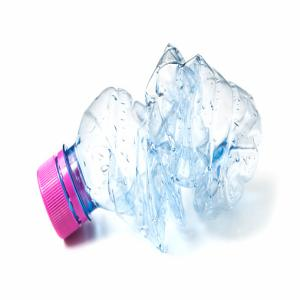Plastic-bottle: (37, 42, 264, 254)
